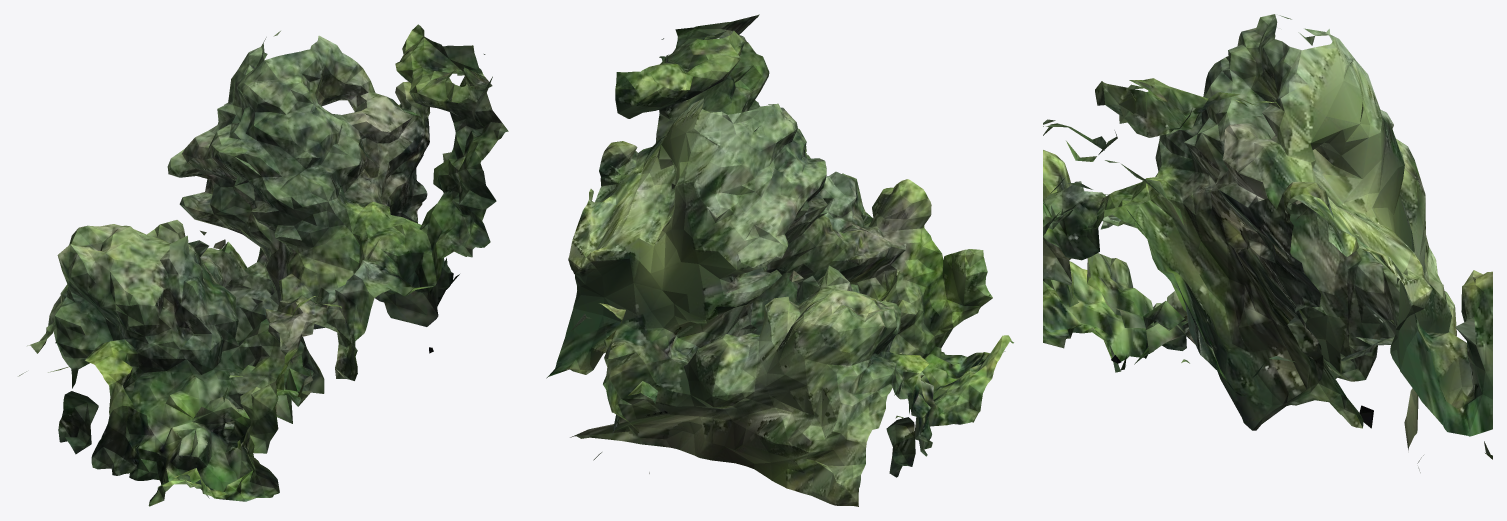
3 renders of one model, left to right at view 1: azimuth 30°, elevation 25°; view 2: azimuth 150°, elevation 25°; view 3: azimuth 270°, elevation 25°, orthographic. The views are drawn at different scales.
Size of the model in its own units: 26.11 by 26.11 by 26.11.
8 materials, 8 textured.
